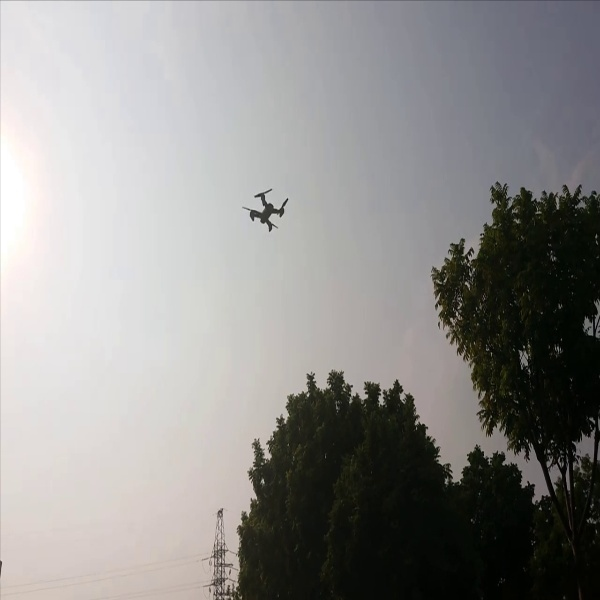drone: (231, 177, 293, 232)
